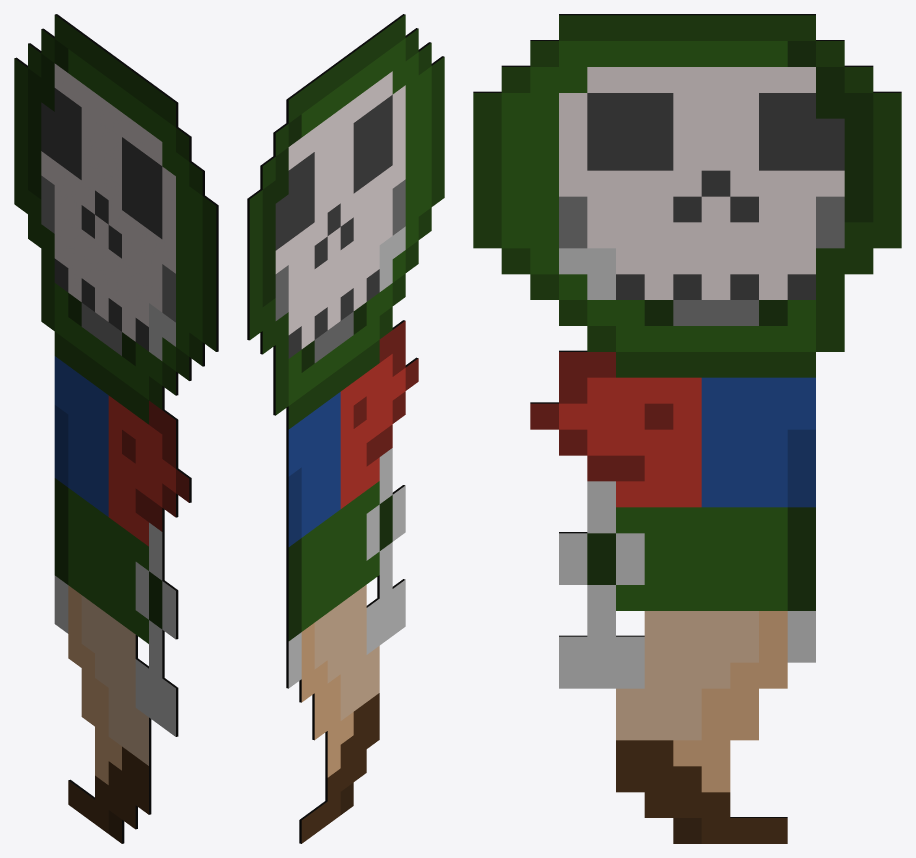
Rendered from Enemy2WC4.fbx.
The picture shows the model from 3 angles, left to right: view 1: azimuth 30°, elevation 25°; view 2: azimuth 150°, elevation 25°; view 3: azimuth 270°, elevation 25°; orthographic projection. The views are drawn at different scales.
Visible parts, largest first — view 1: Cube; view 2: Cube; view 3: Cube.
Part boxes in pixels (bbox=[...]): Cube: bbox=[14, 14, 218, 843]; Cube: bbox=[247, 14, 444, 843]; Cube: bbox=[473, 14, 901, 843].
Size of the model in its own units: 20 by 6400 by 3000.
